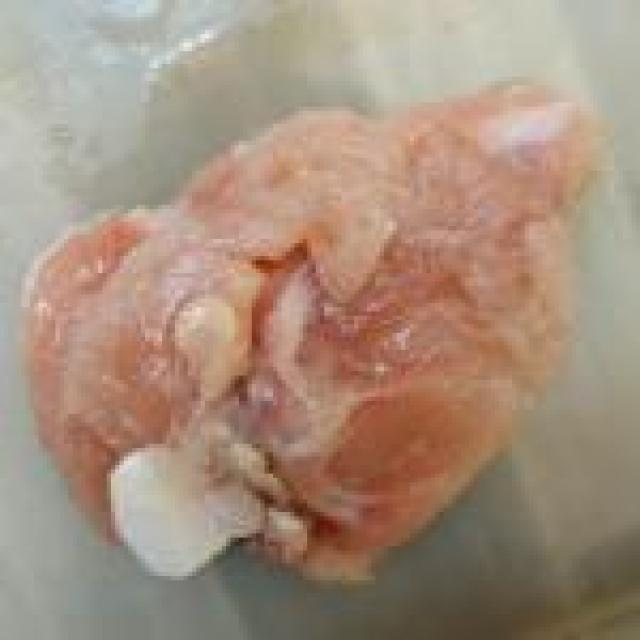breast: (22, 78, 614, 572)
